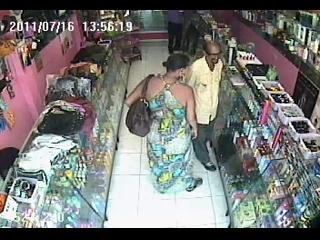Normal: (125, 53, 202, 196), (186, 39, 224, 172), (125, 77, 154, 138), (166, 10, 184, 54)
